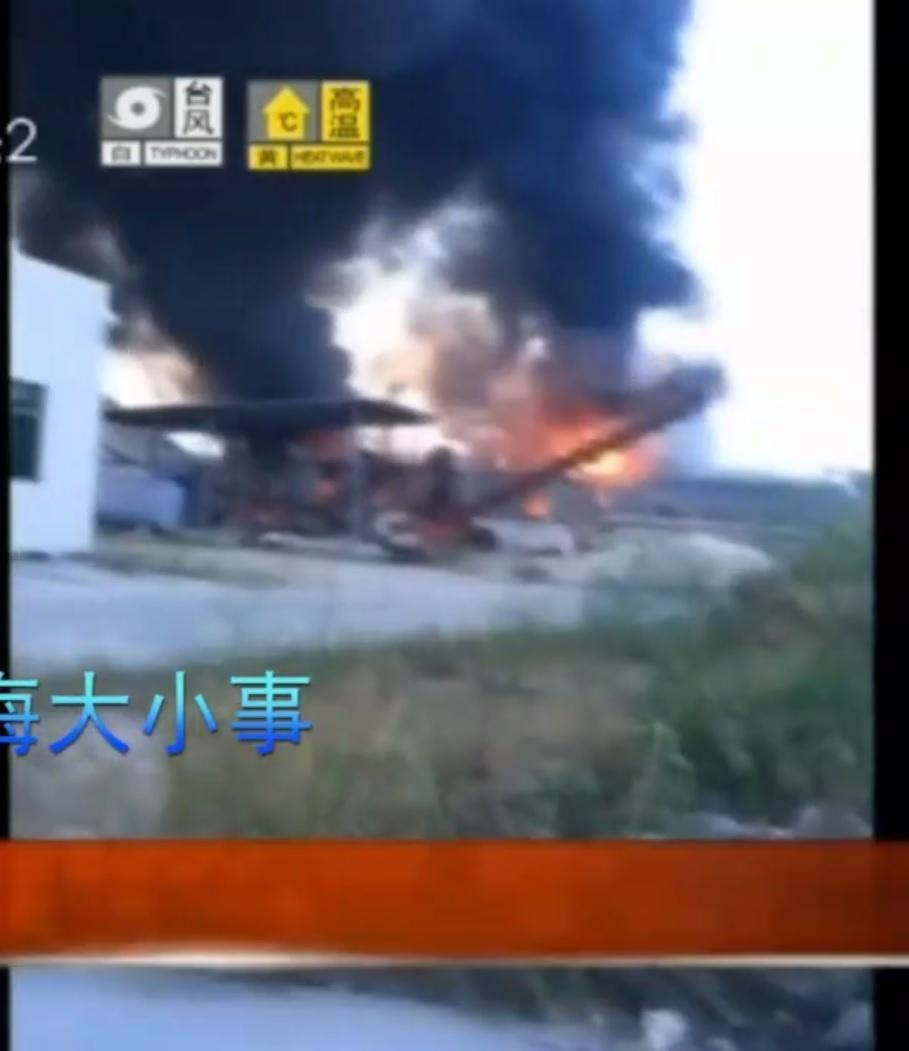fire: (546, 419, 646, 485)
